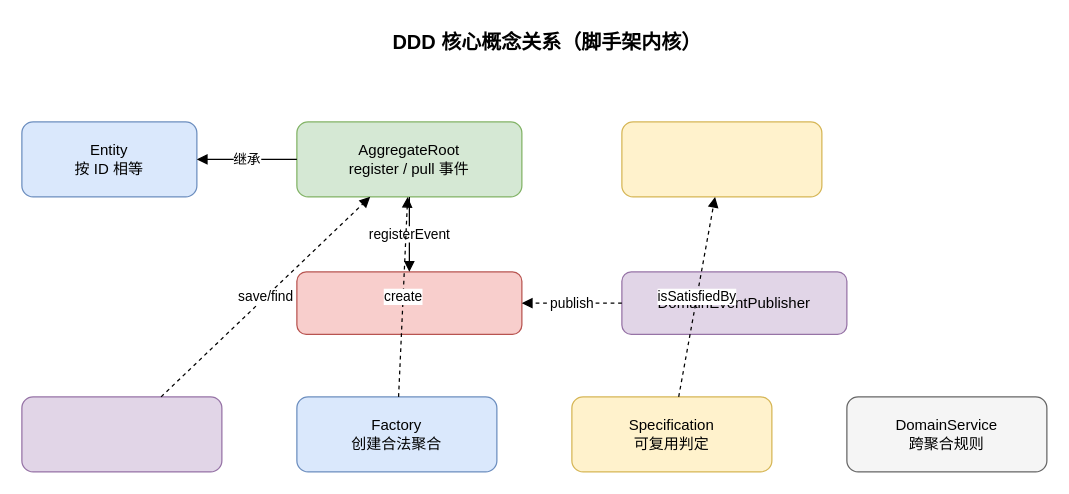
The diagram is 1069 pixels wide and 494 high, and some of its shapes have lost their labels. Here are the shapes that lost their labels. From the top down, the centre of each, then its label:
the point at 721,159: ValueObject 不可变 / 按值相等
the point at 409,302: DomainEvent
the point at 121,434: Repository 聚合粒度端口
